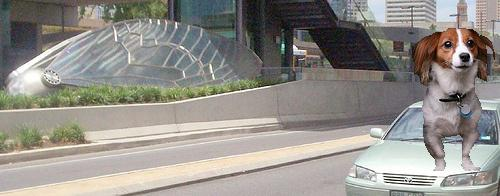tampered: (413, 29, 495, 171)
